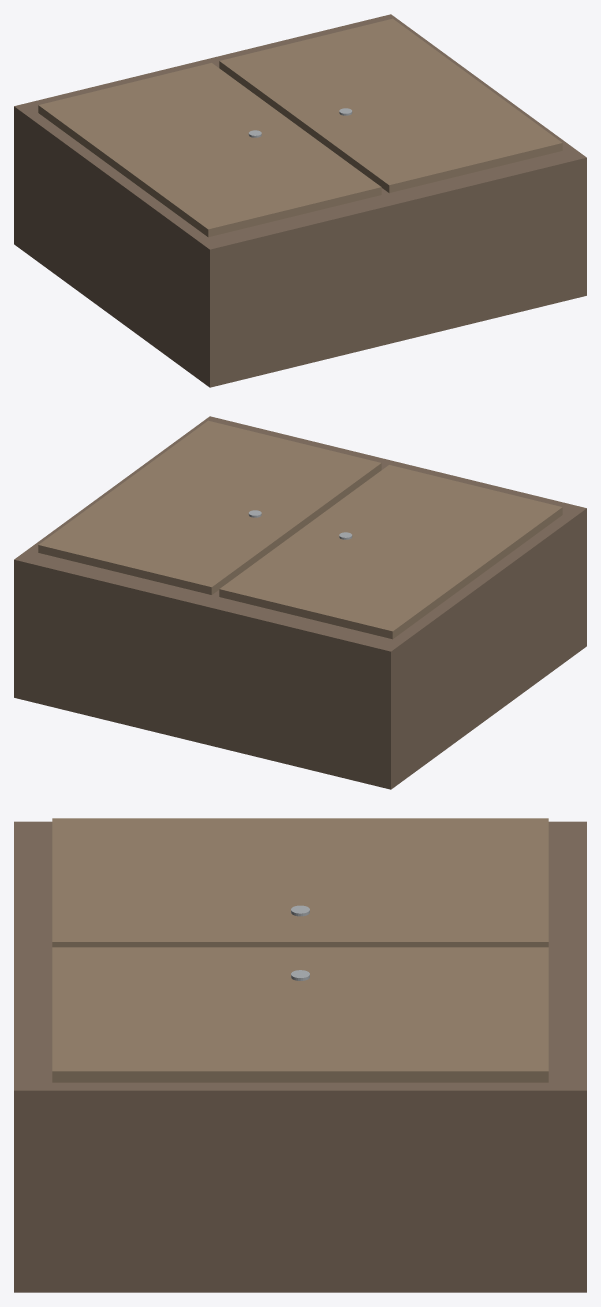
File: shoe_cabinet.glb
3 views of the same model, one above another, from view 1: azimuth 30°, elevation 25°; view 2: azimuth 150°, elevation 25°; view 3: azimuth 270°, elevation 25° (orthographic). The views are drawn at different scales.
Parts seen in each view (by area): view 1: world; view 2: world; view 3: world.
Boxes of the visible parts, box(x1,y1,x2,y2) form: world: box(14, 14, 586, 387); world: box(14, 416, 586, 789); world: box(14, 818, 586, 1292).
Size of the model in its own units: 1 by 0.375 by 0.9.
